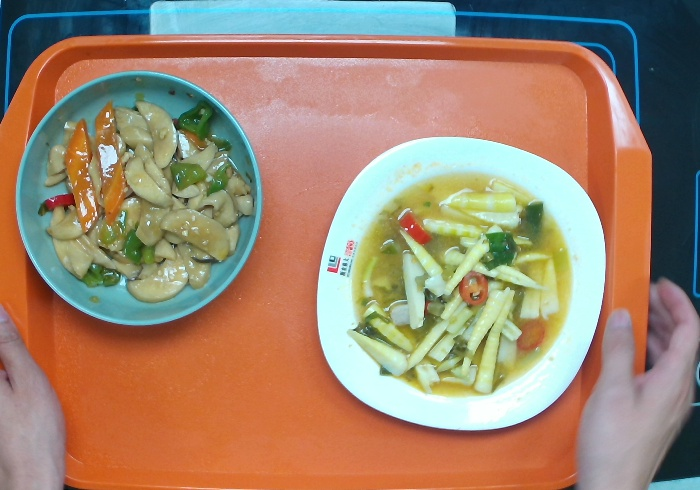ZNLD-Qing_Hua_Yuan_Wan: (13, 69, 263, 328)
ZNLD-Yuan_Jiao_Pan: (315, 135, 608, 431)
